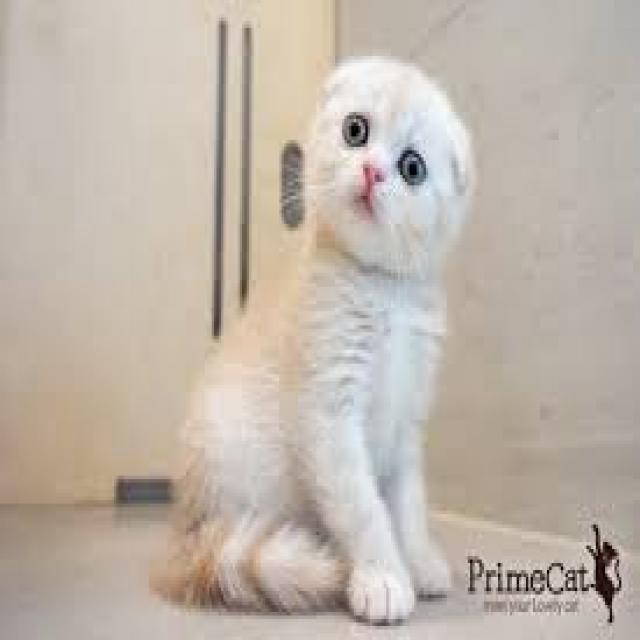cat-face: (274, 45, 484, 290)
